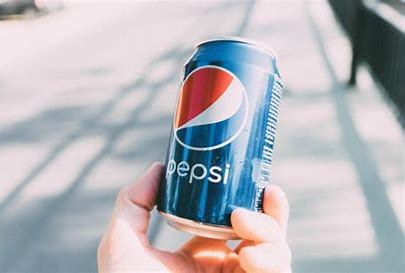Pepsi: (163, 36, 276, 251)
